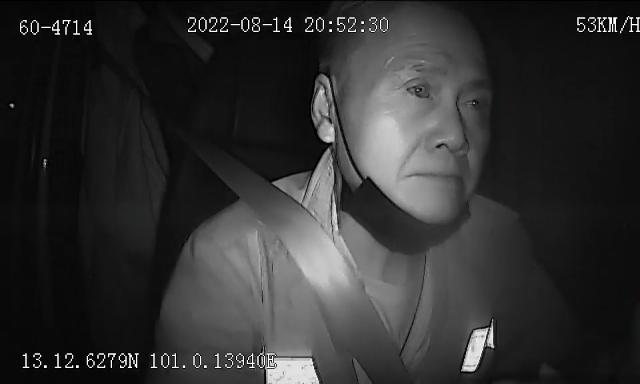SafeDriving: (397, 70, 440, 109), (455, 83, 491, 119)
Seatbelt: (214, 150, 414, 384)
